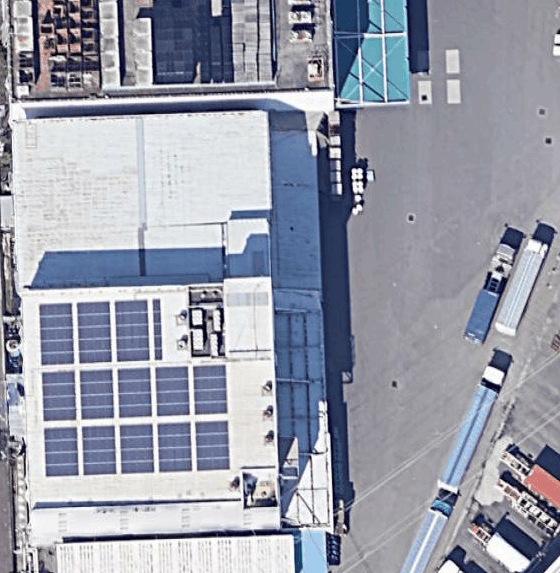rooftop: (0, 0, 334, 109)
